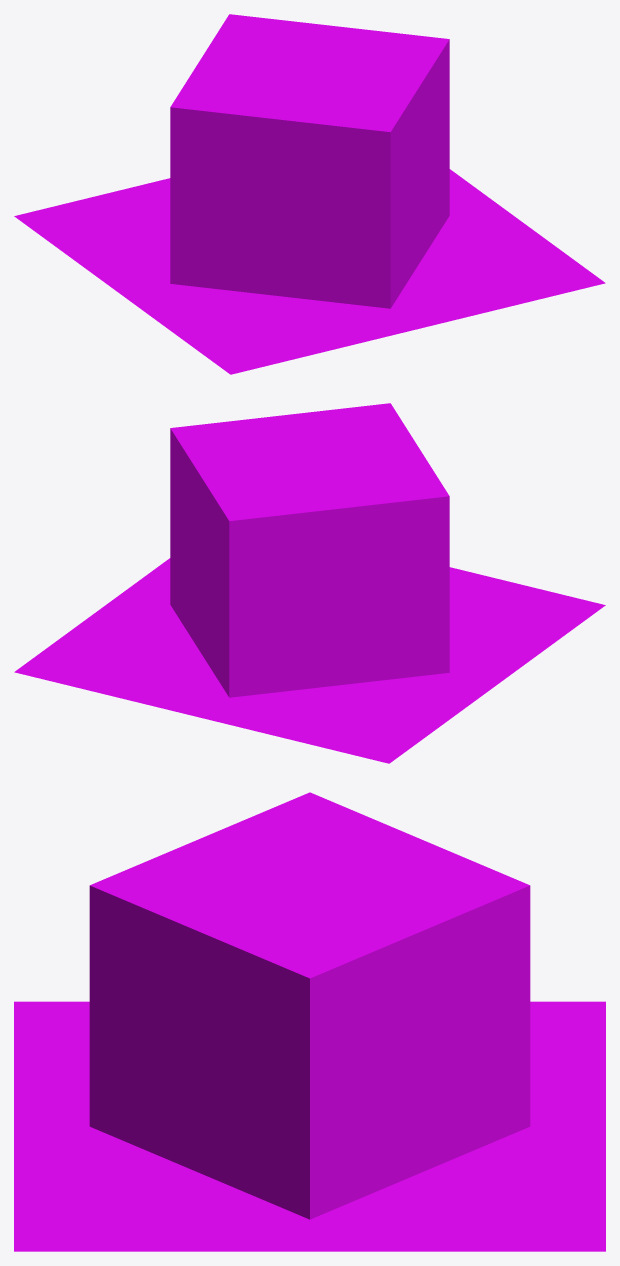
The model's file is MODEL_Generator_Ready.FBX.
The picture shows the model from 3 angles, top to bottom: view 1: azimuth 30°, elevation 25°; view 2: azimuth 150°, elevation 25°; view 3: azimuth 270°, elevation 25°; orthographic projection. The views are drawn at different scales.
Visible parts, largest first — view 1: MESH_Generator_Ready; view 2: MESH_Generator_Ready; view 3: MESH_Generator_Ready.
Boxes of the visible parts, x1,y1,x2,y2 form: MESH_Generator_Ready: (14, 14, 605, 374); MESH_Generator_Ready: (14, 403, 605, 763); MESH_Generator_Ready: (14, 792, 605, 1251).
Bounding box in the file's own units: 10 × 4.5 × 10.
